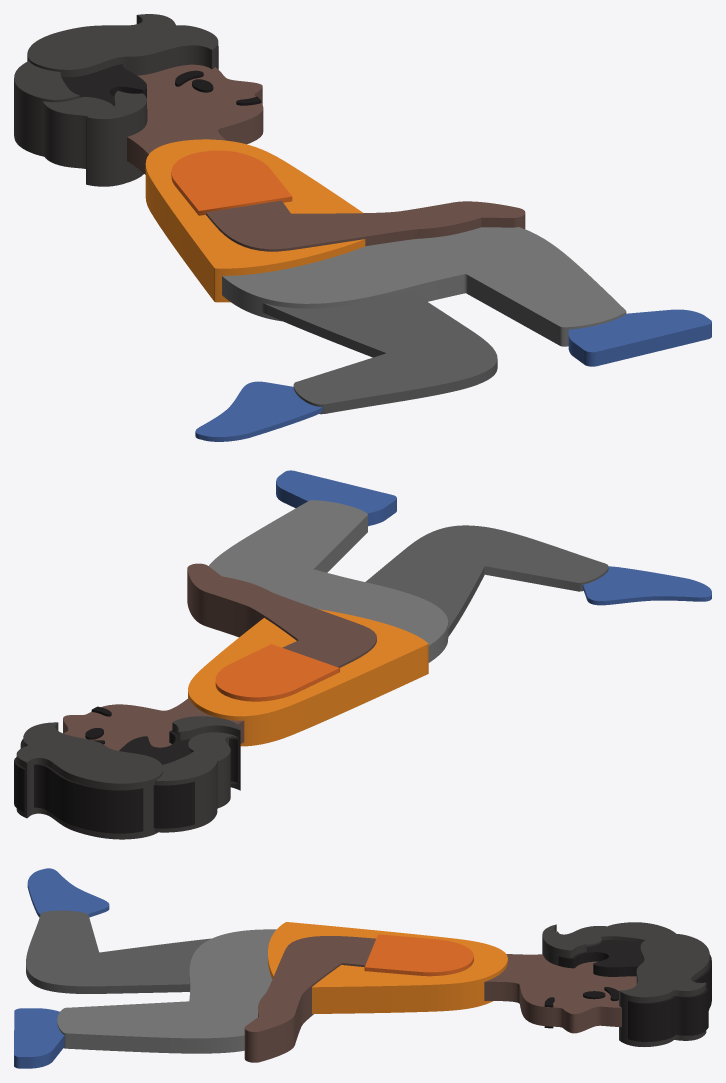
Rendered from emoji_u1f9ce_1f3ff_200d_27a1.glb.
The picture shows the model from 3 angles, top to bottom: view 1: azimuth 30°, elevation 25°; view 2: azimuth 150°, elevation 25°; view 3: azimuth 270°, elevation 25°; orthographic projection. The views are drawn at different scales.
Visible parts, largest first — view 1: emoji_u1f9ce_1f3ff_200d_27a1; view 2: emoji_u1f9ce_1f3ff_200d_27a1; view 3: emoji_u1f9ce_1f3ff_200d_27a1.
Boxes of the visible parts, x1=… form: emoji_u1f9ce_1f3ff_200d_27a1: x1=14, y1=14, x2=711, y2=441; emoji_u1f9ce_1f3ff_200d_27a1: x1=14, y1=470, x2=711, y2=839; emoji_u1f9ce_1f3ff_200d_27a1: x1=14, y1=868, x2=711, y2=1068.
Size of the model in its own units: 0.0215 by 0.0028 by 0.033.
